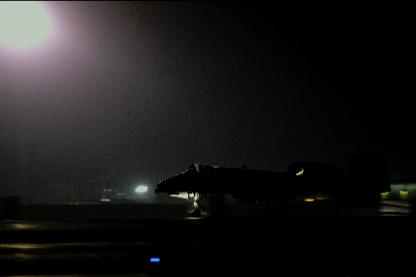A10: (154, 152, 390, 216)
